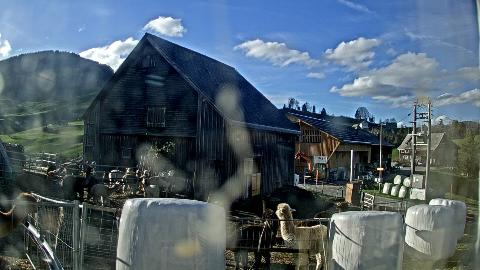car: (360, 171, 374, 181), (390, 166, 400, 174), (418, 160, 426, 166)
sheep: (276, 202, 328, 270), (223, 224, 271, 270), (0, 191, 42, 239), (61, 166, 95, 201), (260, 193, 280, 247), (16, 171, 59, 195), (91, 181, 121, 208), (314, 201, 350, 223), (144, 171, 172, 197), (22, 163, 57, 183), (110, 168, 132, 190), (295, 216, 329, 230), (123, 170, 141, 196), (140, 177, 160, 199), (206, 193, 226, 213), (60, 164, 82, 176), (367, 205, 393, 213), (58, 163, 72, 175), (63, 162, 77, 174)
